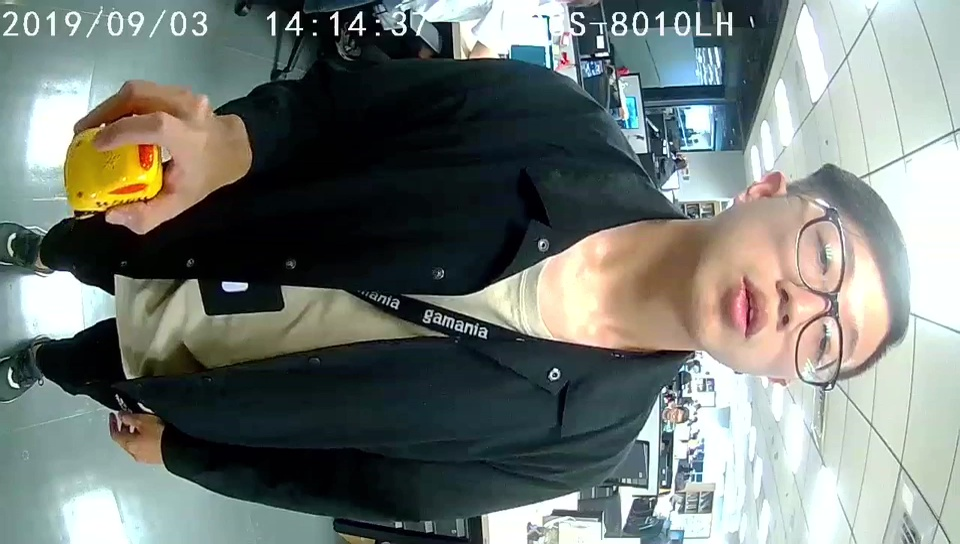car: (64, 132, 168, 212)
